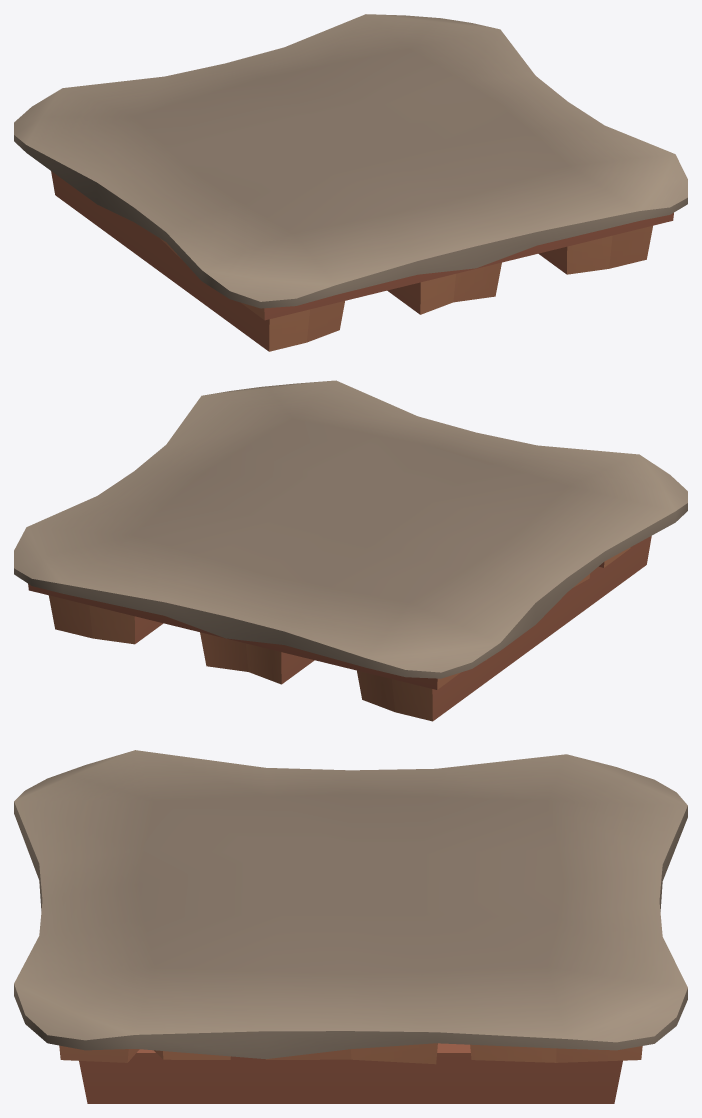
The model's file is pallet_wood_covered_b.glb.
3 renders of one model, top to bottom at view 1: azimuth 30°, elevation 25°; view 2: azimuth 150°, elevation 25°; view 3: azimuth 270°, elevation 25°, orthographic. The views are drawn at different scales.
Parts seen in each view (by area): view 1: Pallet_Wood_Covered_B; view 2: Pallet_Wood_Covered_B; view 3: Pallet_Wood_Covered_B.
Part boxes in pixels (x1,y1,x2,y2): Pallet_Wood_Covered_B: (14, 14, 687, 351); Pallet_Wood_Covered_B: (14, 380, 687, 721); Pallet_Wood_Covered_B: (14, 750, 687, 1103).
Bounding box in the file's own units: 1.03 × 0.18 × 1.03.
1 material, 1 textured.
